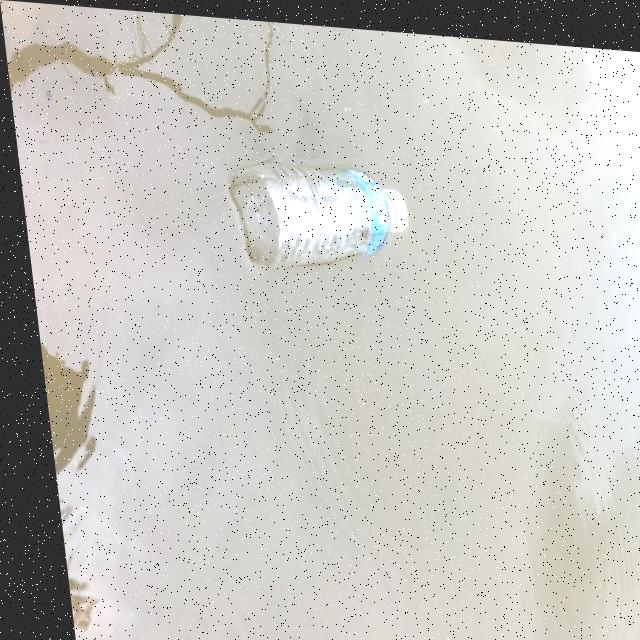waterbottle: (211, 123, 423, 295)
